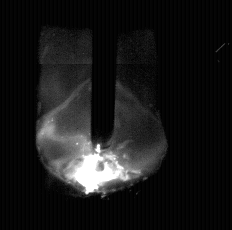arame: (91, 0, 115, 147)
poca: (34, 0, 168, 230)
